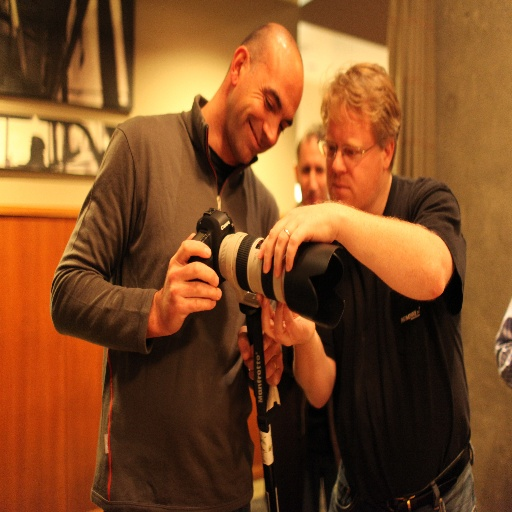hand: (153, 225, 220, 340), (257, 200, 337, 280), (254, 293, 316, 348), (235, 326, 284, 389)
